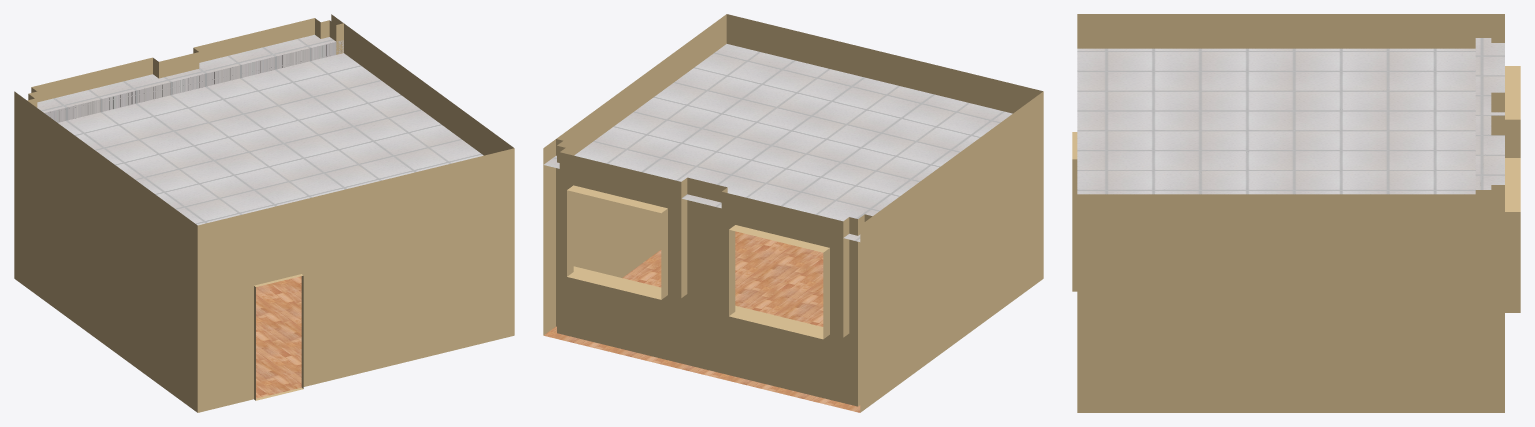
Rendered from room2_1.glb.
3 views of the same model, side by side, from view 1: azimuth 30°, elevation 25°; view 2: azimuth 150°, elevation 25°; view 3: azimuth 270°, elevation 25° (orthographic). The views are drawn at different scales.
Parts seen in each view (by area): view 1: 4et.011; view 2: 4et.011; view 3: 4et.011.
Part boxes in pixels (box(x1,y1,x2,y2)): 4et.011: box(14, 14, 514, 412); 4et.011: box(543, 14, 1043, 412); 4et.011: box(1072, 14, 1520, 412).
Bounding box in the file's own units: 5.84 × 3.3 × 6.13.
3 materials, 2 textured.
